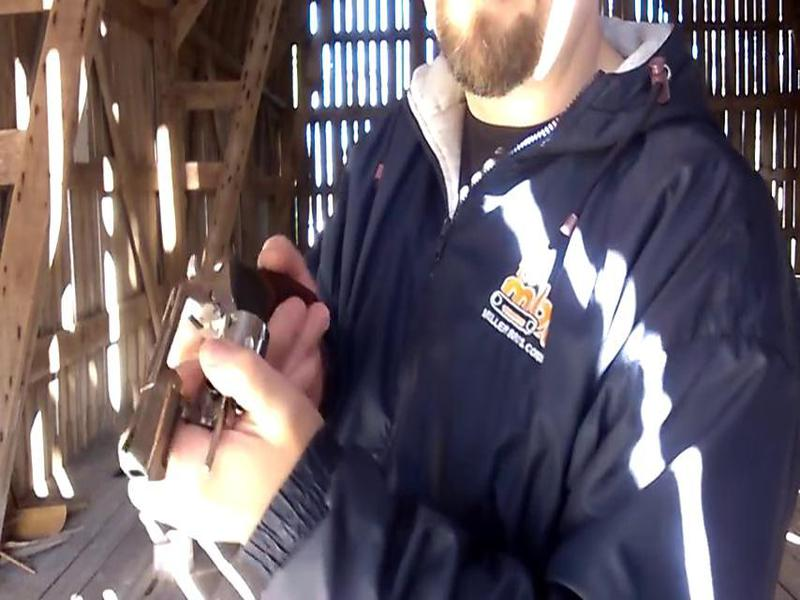Revolver: (104, 204, 333, 570)
